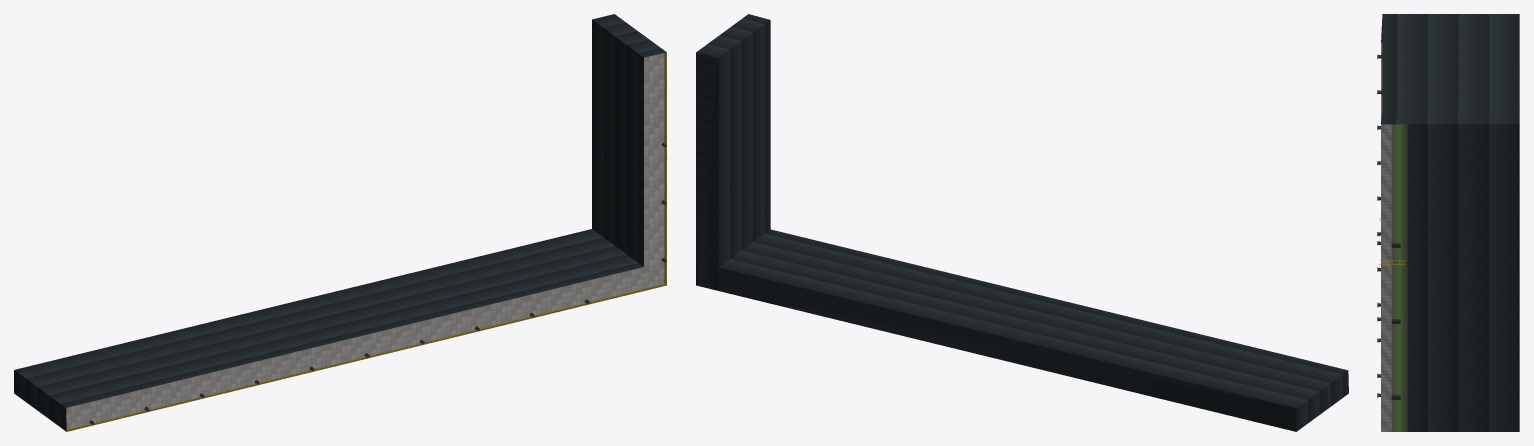
Rendered from outer_breakwater.obj.
3 views of the same model, side by side, from view 1: azimuth 30°, elevation 25°; view 2: azimuth 150°, elevation 25°; view 3: azimuth 270°, elevation 25° (orthographic). The views are drawn at different scales.
Size of the model in its own units: 120 by 44.8 by 18.68.
Materials: 8 (8 with a texture image).
